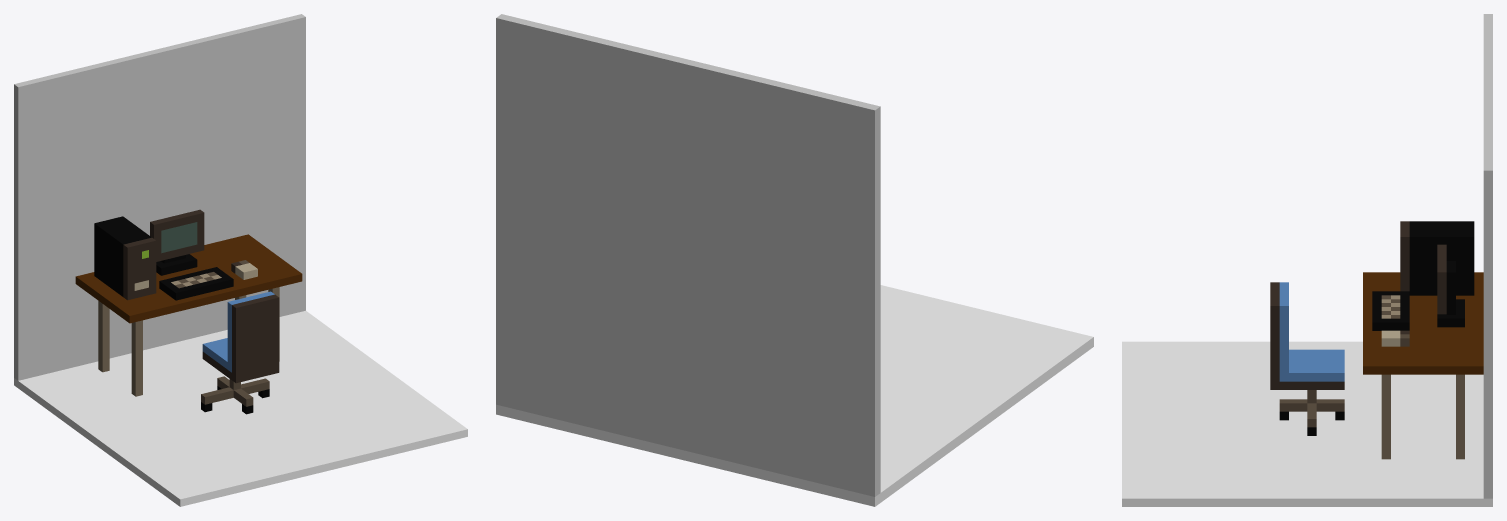
Rendered from salaJogador.obj.
3 views of the same model, side by side, from view 1: azimuth 30°, elevation 25°; view 2: azimuth 150°, elevation 25°; view 3: azimuth 270°, elevation 25° (orthographic). The views are drawn at different scales.
Bounding box in the file's own units: 40 × 40 × 40.
1 material, 1 textured.
